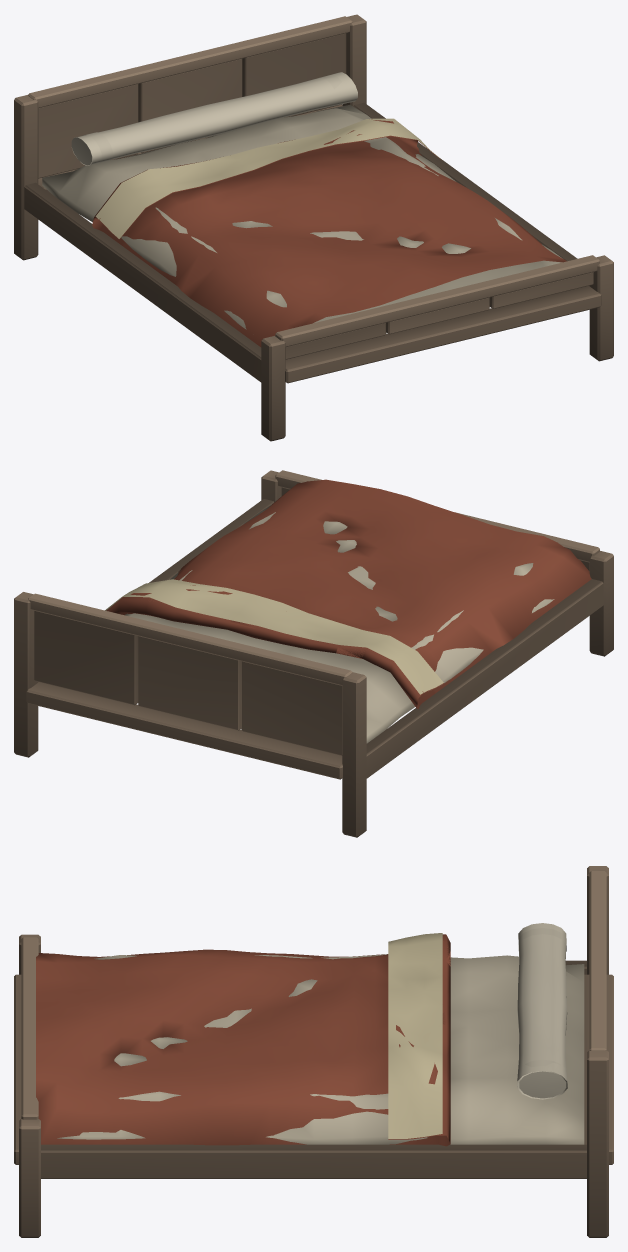
File: bed.glb
3 views of the same model, one above another, from view 1: azimuth 30°, elevation 25°; view 2: azimuth 150°, elevation 25°; view 3: azimuth 270°, elevation 25° (orthographic). The views are drawn at different scales.
Parts seen in each view (by area): view 1: bed; view 2: bed; view 3: bed.
Part boxes in pixels (x1,y1,x2,y2): bed: [14, 14, 613, 441]; bed: [14, 470, 613, 837]; bed: [14, 866, 613, 1237].
Size of what is drawn, in the model's own units: 1.86 by 0.82 by 2.44.
